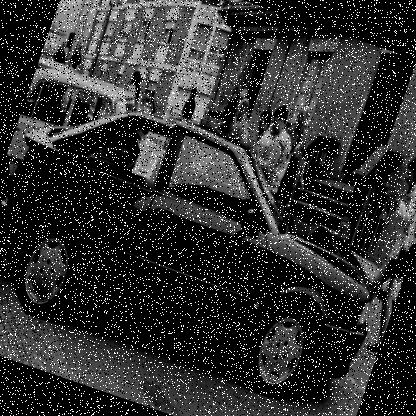Car: (0, 70, 415, 415), (0, 60, 181, 252), (24, 57, 86, 118)
